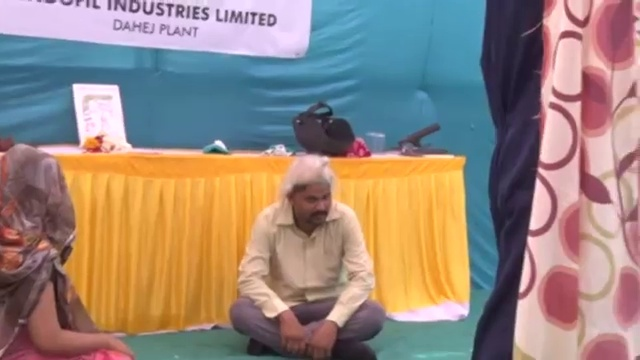helmet_off: (1, 144, 74, 242), (281, 159, 334, 230)
person: (228, 155, 389, 360), (1, 144, 134, 360), (469, 1, 547, 360)
